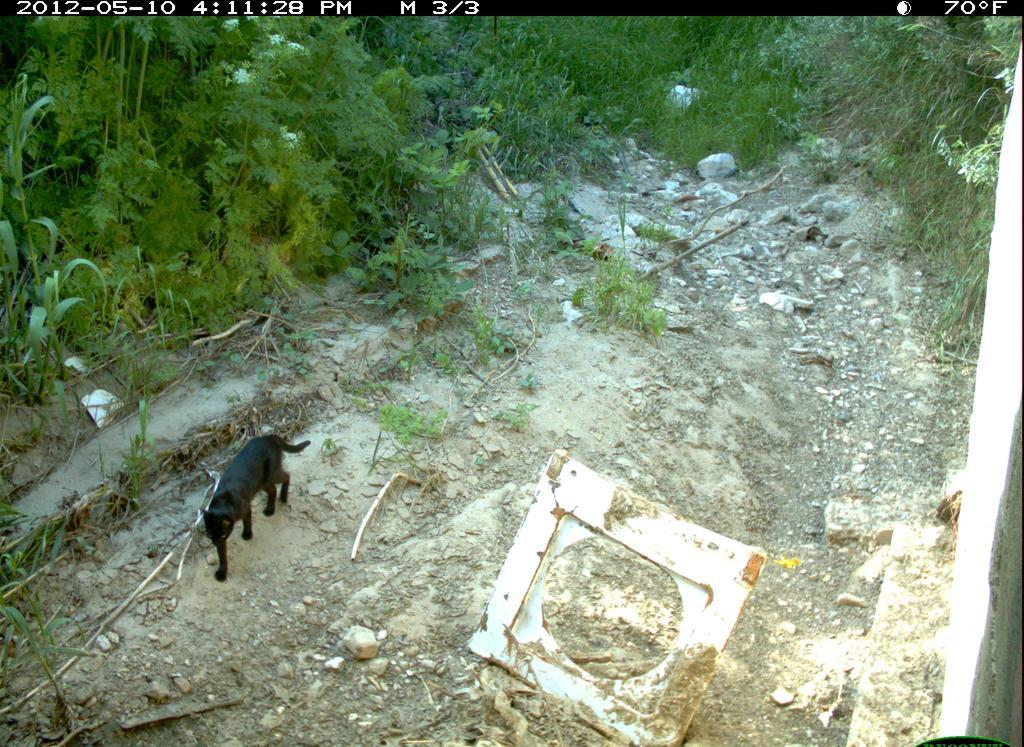cat: (198, 429, 315, 587)
